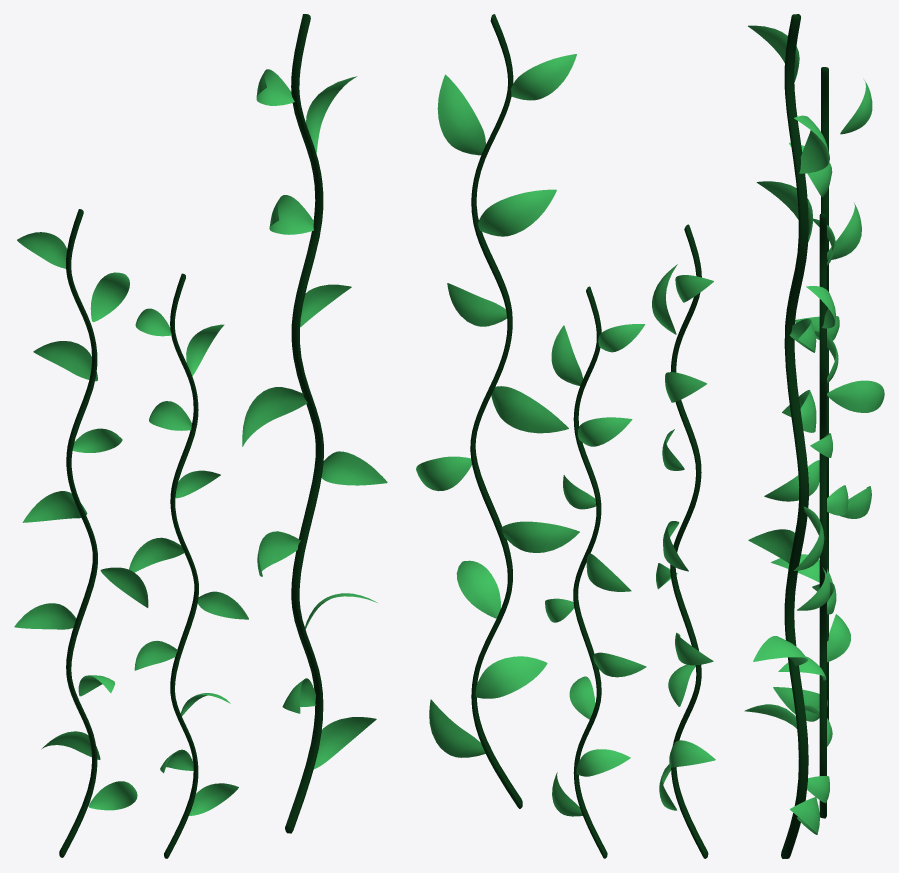
Rendered from seaWeed4.gltf.
3 views of the same model, side by side, from view 1: azimuth 30°, elevation 25°; view 2: azimuth 150°, elevation 25°; view 3: azimuth 270°, elevation 25° (orthographic). The views are drawn at different scales.
Visible parts, largest first — view 1: leaves.001, leaves.002, leaves, gane.001, gane.002, gane; view 2: leaves.001, leaves, leaves.002, gane.001, gane.002, gane; view 3: gane.001, leaves.001, leaves.002, gane, leaves, gane.002.
Part boxes in pixels (x1,y1,x2,y2): leaves.001: (242,69,387,768); leaves.002: (14,232,148,810); leaves: (129,308,248,815); gane.001: (285,14,323,833); gane.002: (59,209,97,857); gane: (164,273,198,858); leaves.001: (416,54,579,757); leaves: (545,324,646,816); leaves.002: (652,264,715,810); gane.001: (470,14,522,808); gane.002: (670,224,708,858); gane: (573,286,607,858); gane.001: (781,14,808,858); leaves.001: (744,25,829,834); leaves.002: (764,80,884,721); gane: (819,213,826,818); leaves: (778,218,848,803); gane.002: (821,67,828,720).
Bounding box in the file's own units: 22.07 × 51.22 × 7.49.
